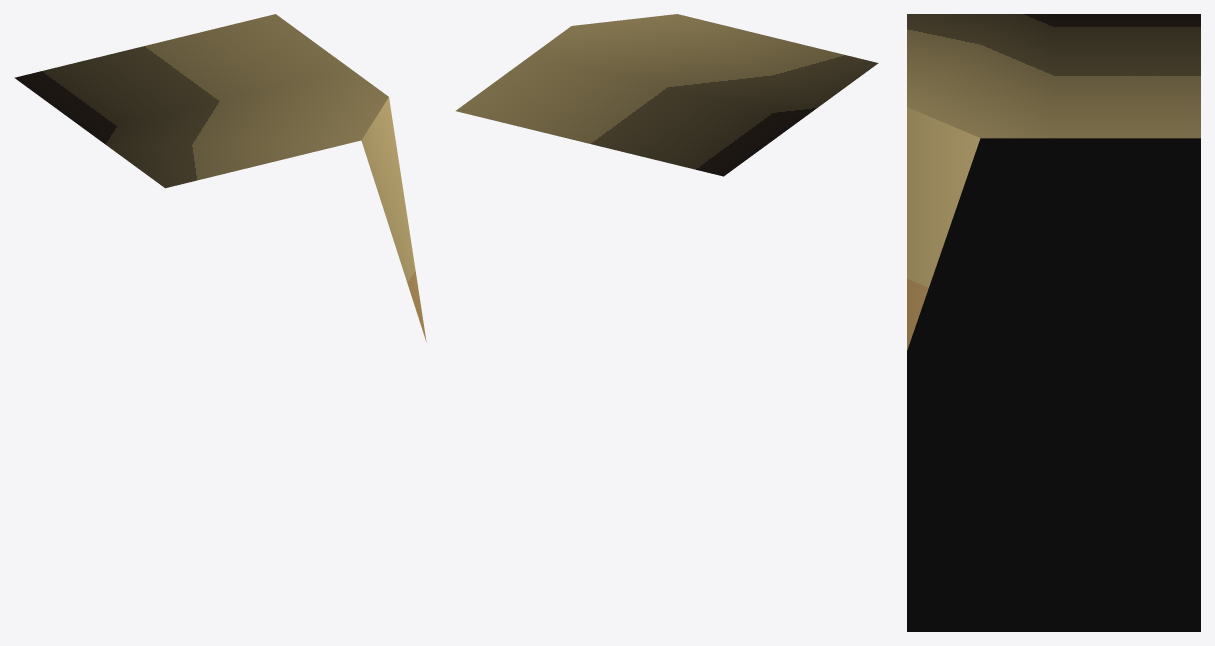
3 renders of one model, left to right at view 1: azimuth 30°, elevation 25°; view 2: azimuth 150°, elevation 25°; view 3: azimuth 270°, elevation 25°, orthographic. The views are drawn at different scales.
Size of the model in its own units: 1 by 1.85 by 1.
2 materials, 2 textured.
